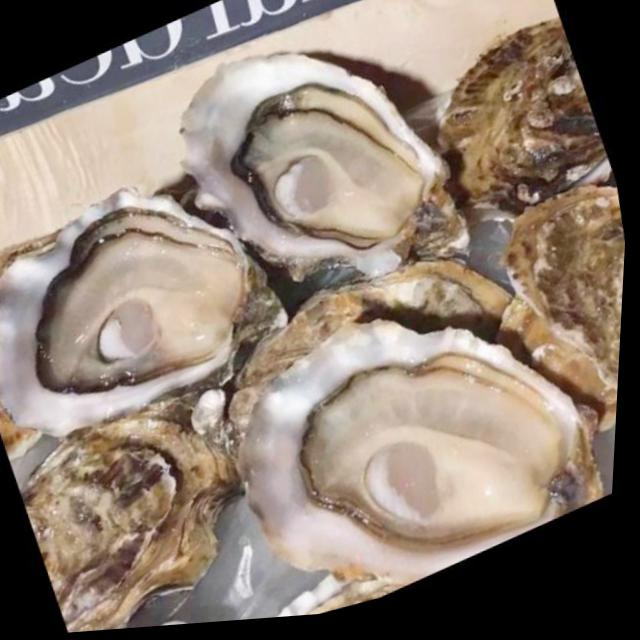Oyster-Indeterminate: (183, 214, 626, 531), (28, 414, 239, 632), (439, 19, 610, 213), (506, 186, 625, 378)
Oyster-Open: (239, 320, 593, 583), (180, 53, 469, 310), (0, 189, 286, 436)
